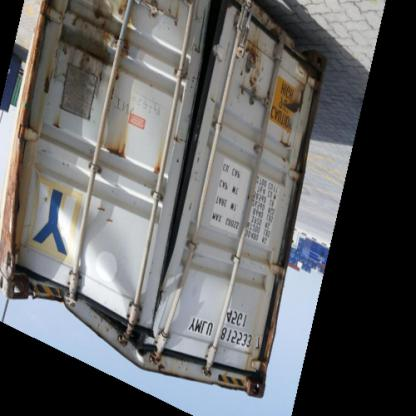Damage: (160, 1, 242, 266), (9, 274, 192, 340), (277, 88, 311, 158), (234, 354, 272, 398), (43, 75, 68, 138), (96, 136, 132, 166)
